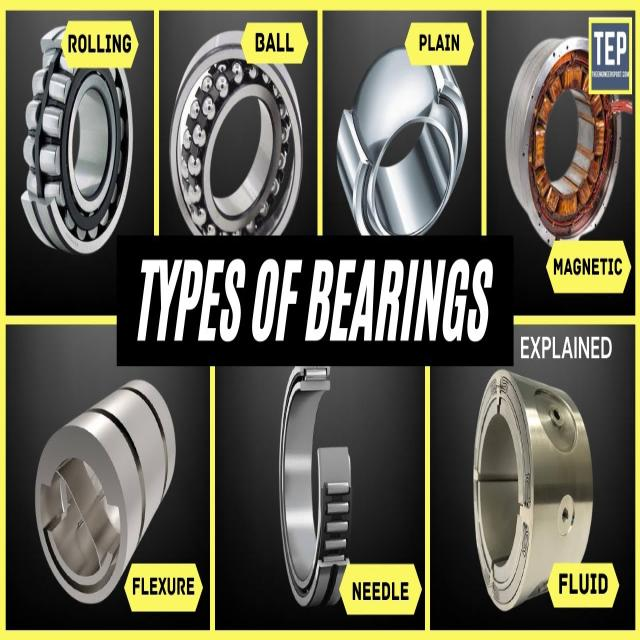Bearing: (168, 29, 304, 236), (20, 22, 134, 254), (334, 44, 471, 237), (278, 363, 354, 610)
